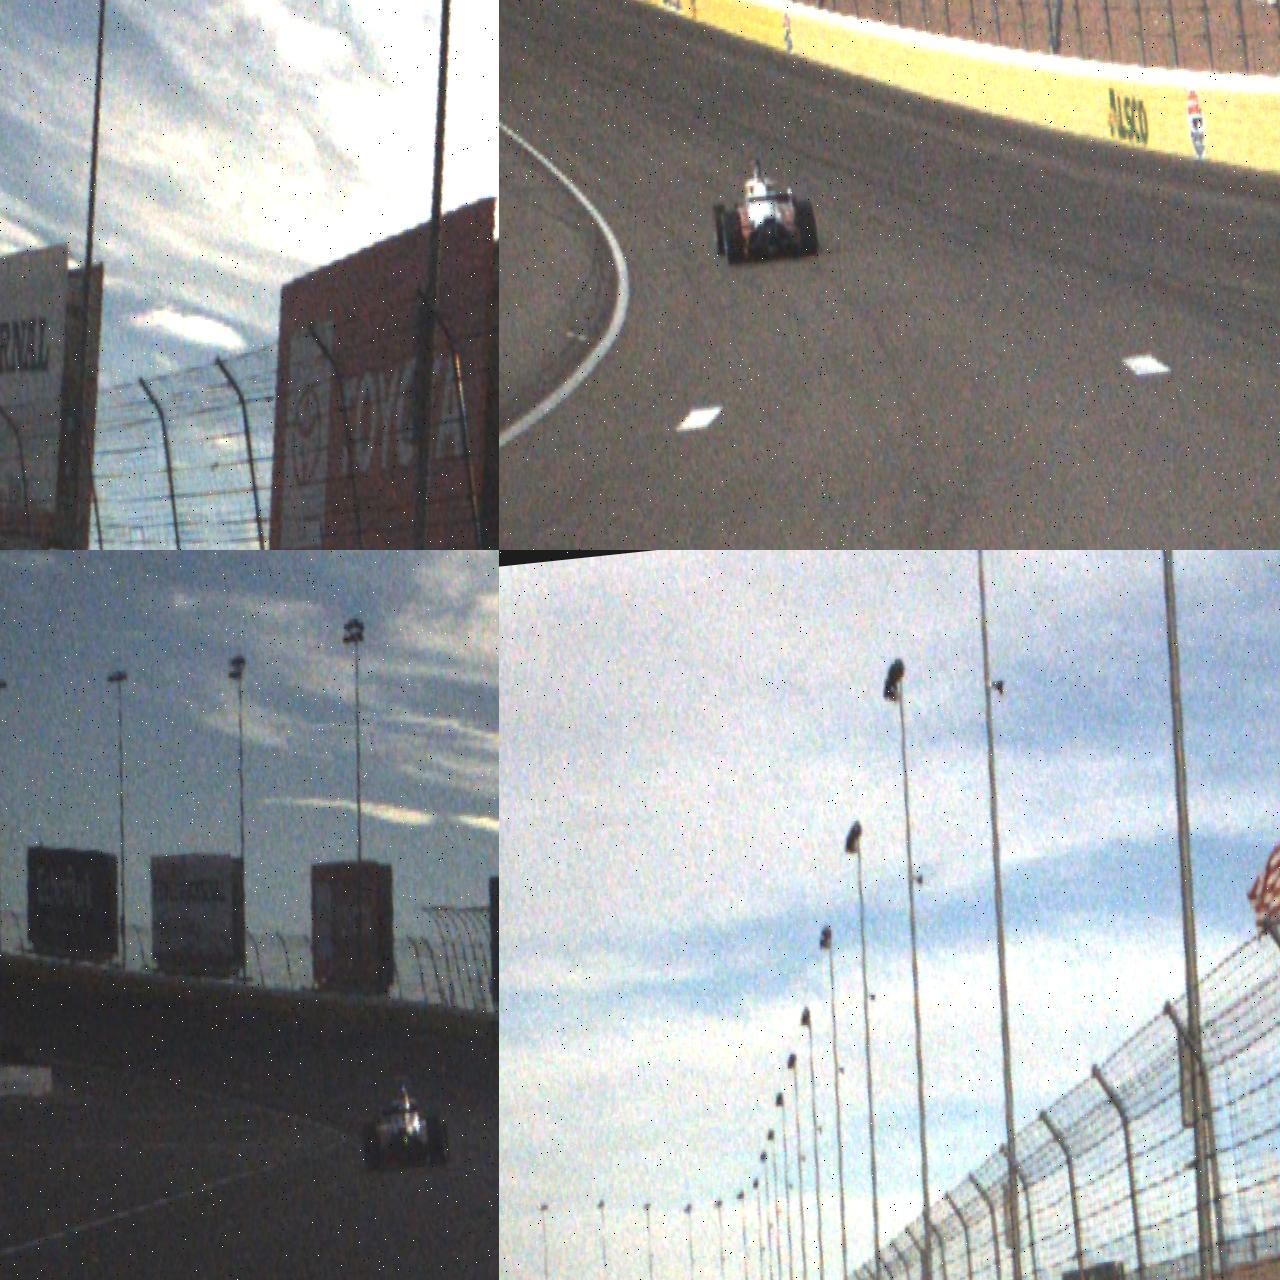AV: (706, 150, 821, 270), (356, 1071, 454, 1178)
Wheel: (797, 199, 821, 258), (722, 211, 745, 268), (361, 1122, 382, 1178), (710, 202, 731, 257), (427, 1116, 448, 1170)
